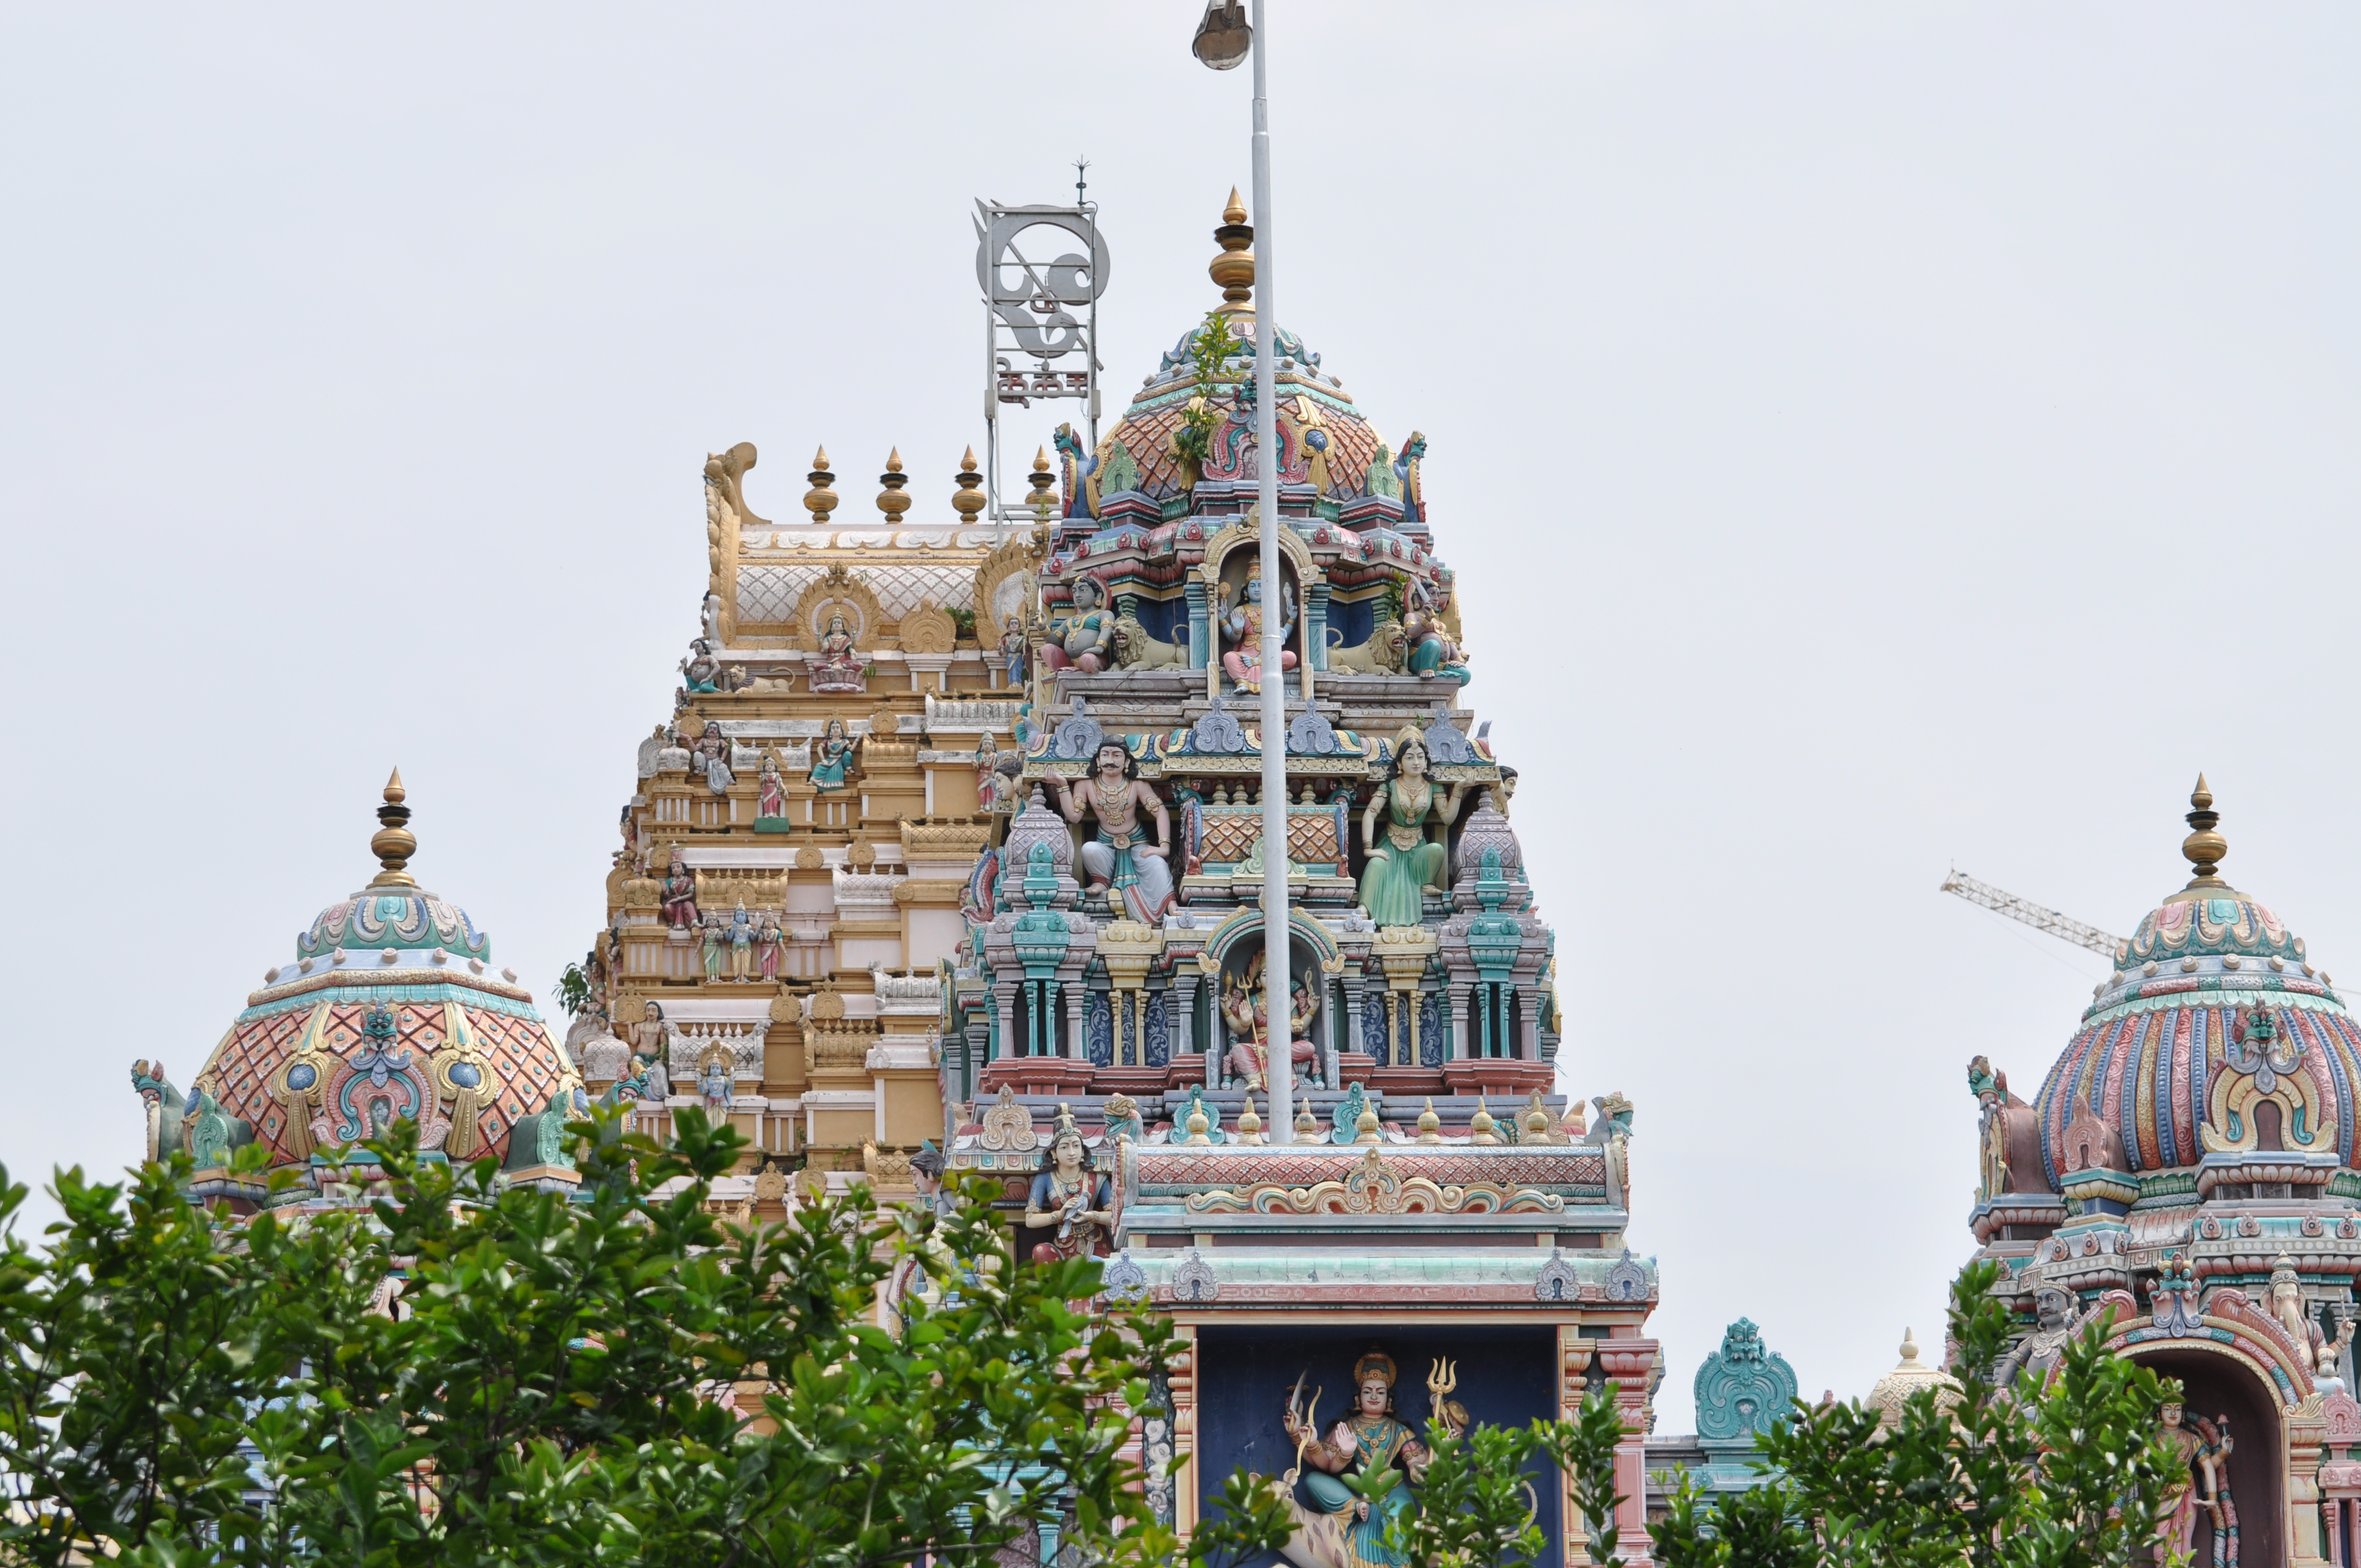Hindu Temple: (425, 180, 1640, 1337)
